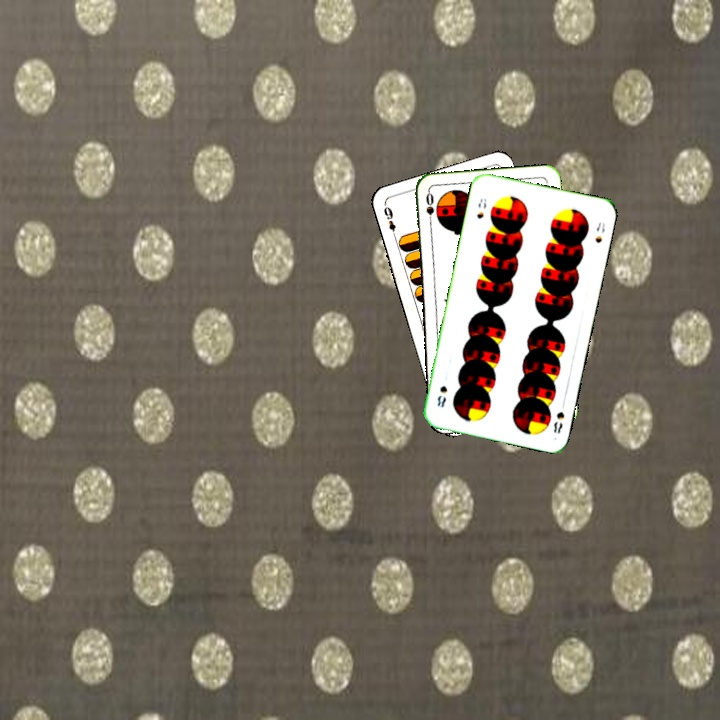E9: (379, 201, 399, 241)
S8: (549, 397, 568, 436), (473, 194, 489, 221)
SO: (422, 188, 437, 229)
